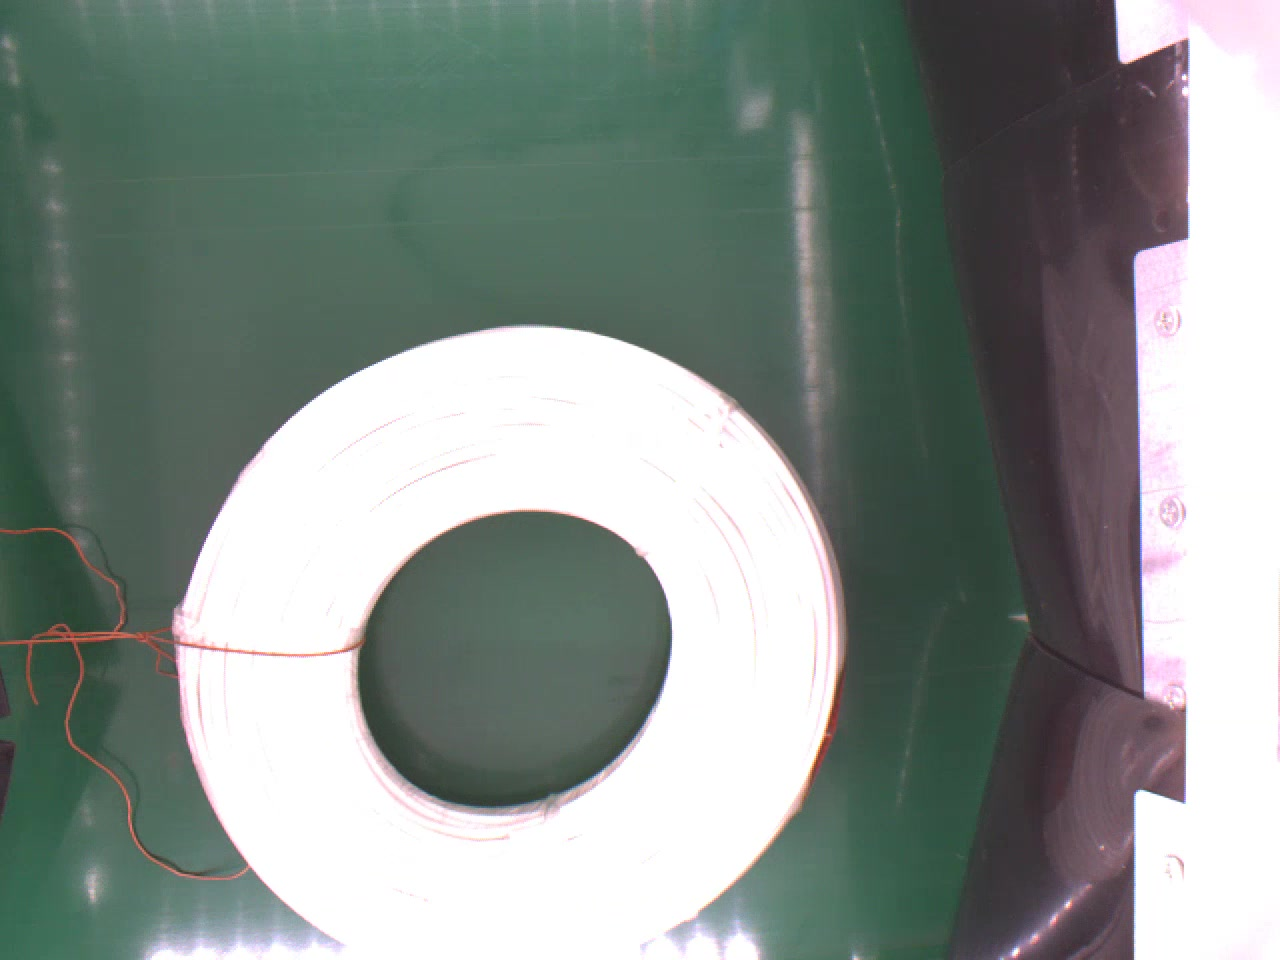white: (171, 322, 849, 960)
